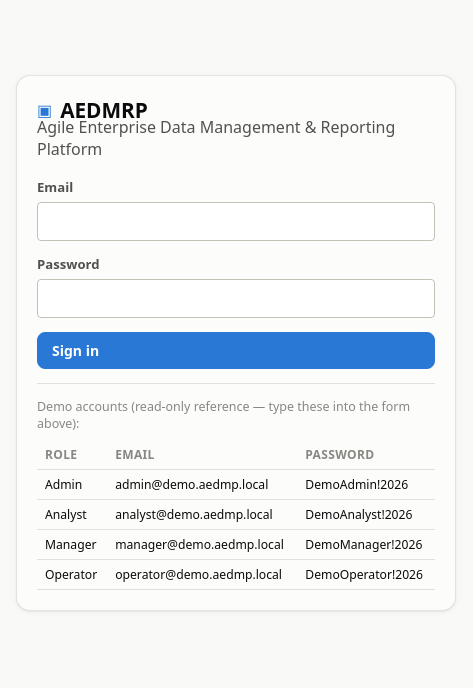
Test case: LoginPage › submits credentials and surfaces a server error message on failed login
The image size is (473, 688).
In the field labelled "Email": coordinates (236, 222) left=37, top=202, right=435, bottom=241, type "admin@demo.aedmp.local"
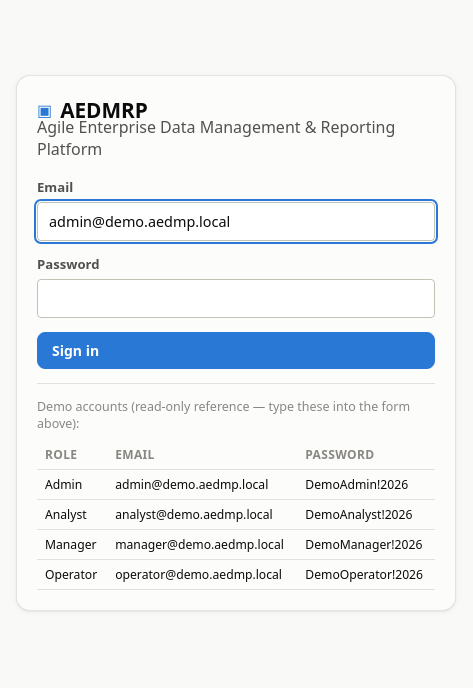
In the password field labelled "Password": coordinates (236, 298) left=37, top=279, right=435, bottom=318, type "wrong-password"
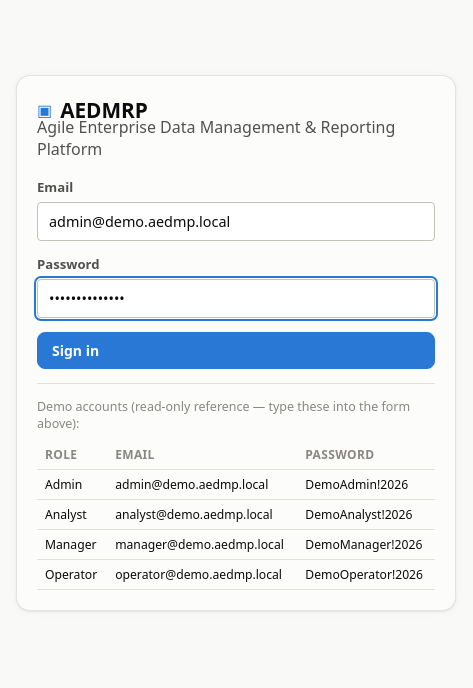
Click the button "Sign in": coordinates (76, 350) left=37, top=332, right=435, bottom=369
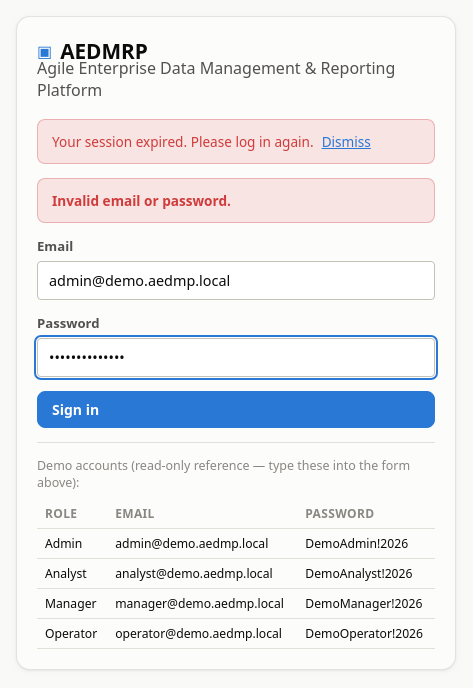
expect the text "Invalid email or password." is shown: met, box left=52, top=191, right=231, bottom=210
